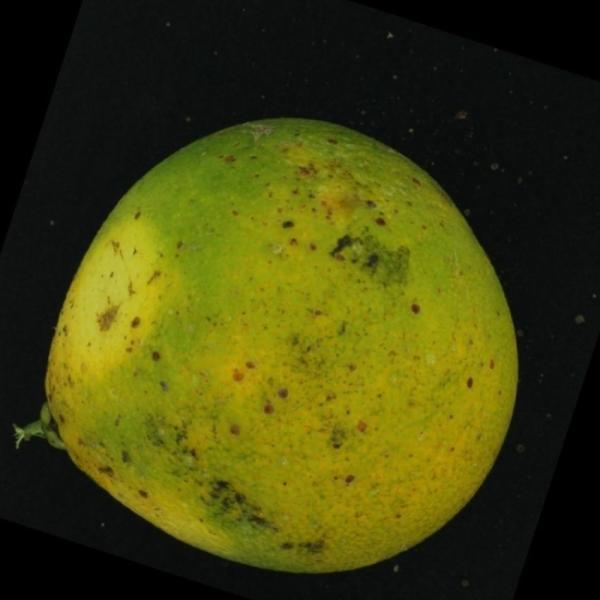Greening: (21, 103, 532, 581)
